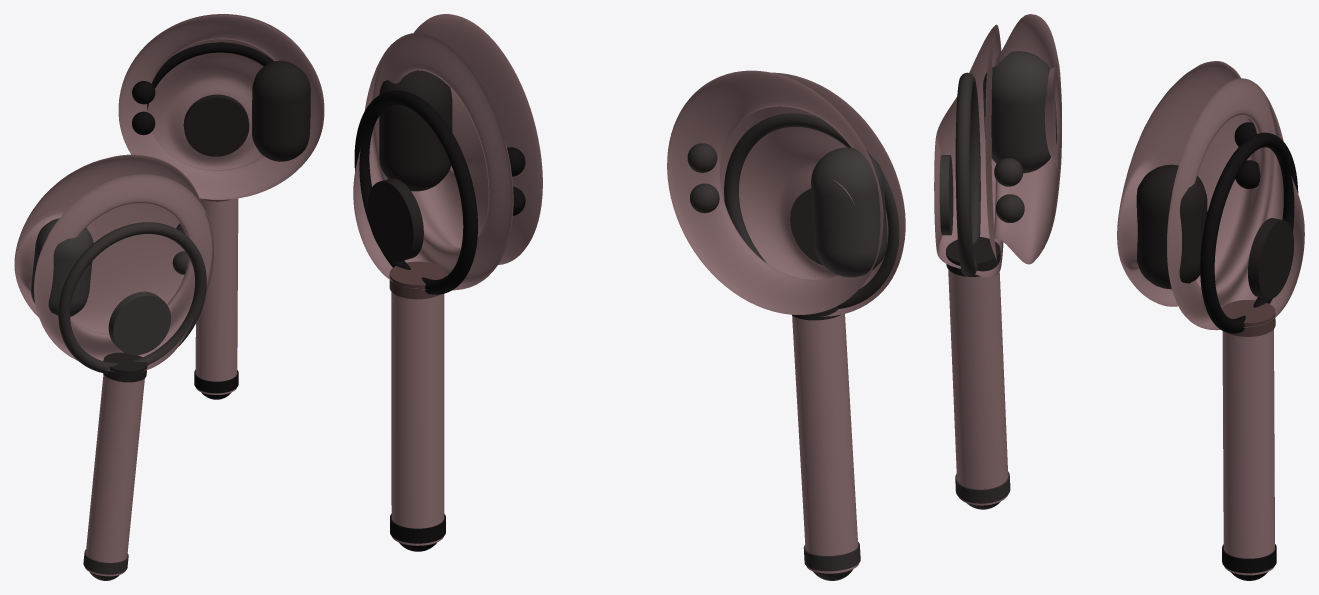
File: build.gltf
The picture shows the model from 3 angles, left to right: view 1: azimuth 30°, elevation 25°; view 2: azimuth 150°, elevation 25°; view 3: azimuth 270°, elevation 25°; orthographic projection. The views are drawn at different scales.
Parts seen in each view (by area): view 1: Loft_3, Loft, Cylinder_1, Cylinder, Capsule, Torus_1, Cylinder2, Cylinder2_1, Capsule_1, Torus, Cylinder1_2, Cylinder1_3 (+3 smaller); view 2: Loft_3, Loft, Cylinder_1, Cylinder, Capsule_1, Capsule, Torus, Torus_1, Cylinder2, Cylinder1, Cylinder2_1, Cylinder1_3 (+3 smaller); view 3: Loft, Loft_3, Cylinder, Cylinder_1, Capsule_1, Capsule, Torus, Torus_1, Cylinder2, Cylinder1, Cylinder1_2, Cylinder2_1 (+5 smaller).
Part boxes in pixels (bbox=[...]): Loft_3: bbox=[14, 154, 213, 372]; Loft: bbox=[118, 14, 324, 199]; Cylinder_1: bbox=[85, 374, 144, 576]; Cylinder: bbox=[195, 198, 238, 394]; Capsule: bbox=[252, 60, 310, 161]; Torus_1: bbox=[58, 222, 206, 373]; Cylinder2: bbox=[183, 94, 249, 156]; Cylinder2_1: bbox=[108, 291, 170, 355]; Capsule_1: bbox=[31, 218, 93, 316]; Torus: bbox=[147, 42, 274, 110]; Cylinder1_2: bbox=[103, 352, 147, 382]; Cylinder1_3: bbox=[83, 549, 128, 574]; Loft_3: bbox=[667, 70, 905, 316]; Loft: bbox=[353, 14, 542, 290]; Cylinder_1: bbox=[792, 314, 858, 573]; Cylinder: bbox=[391, 292, 444, 545]; Capsule_1: bbox=[811, 147, 887, 277]; Capsule: bbox=[379, 70, 452, 191]; Torus: bbox=[354, 90, 477, 294]; Torus_1: bbox=[724, 113, 899, 308]; Cylinder2: bbox=[367, 178, 423, 261]; Cylinder1: bbox=[389, 261, 445, 299]; Cylinder2_1: bbox=[790, 188, 823, 265]; Cylinder1_3: bbox=[803, 542, 860, 571]; Loft: bbox=[1117, 61, 1304, 330]; Loft_3: bbox=[934, 14, 1061, 277]; Cylinder: bbox=[1222, 329, 1274, 575]; Cylinder_1: bbox=[948, 269, 1008, 505]; Capsule_1: bbox=[983, 51, 1057, 173]; Capsule: bbox=[1136, 164, 1207, 289]; Torus: bbox=[1200, 132, 1298, 333]; Torus_1: bbox=[955, 72, 980, 276]; Cylinder2: bbox=[1248, 218, 1293, 299]; Cylinder1: bbox=[1221, 300, 1275, 336]; Cylinder1_2: bbox=[946, 236, 1000, 276]; Cylinder2_1: bbox=[939, 155, 953, 235].
Bounding box in the file's own units: 6.27 × 7.65 × 4.61.
